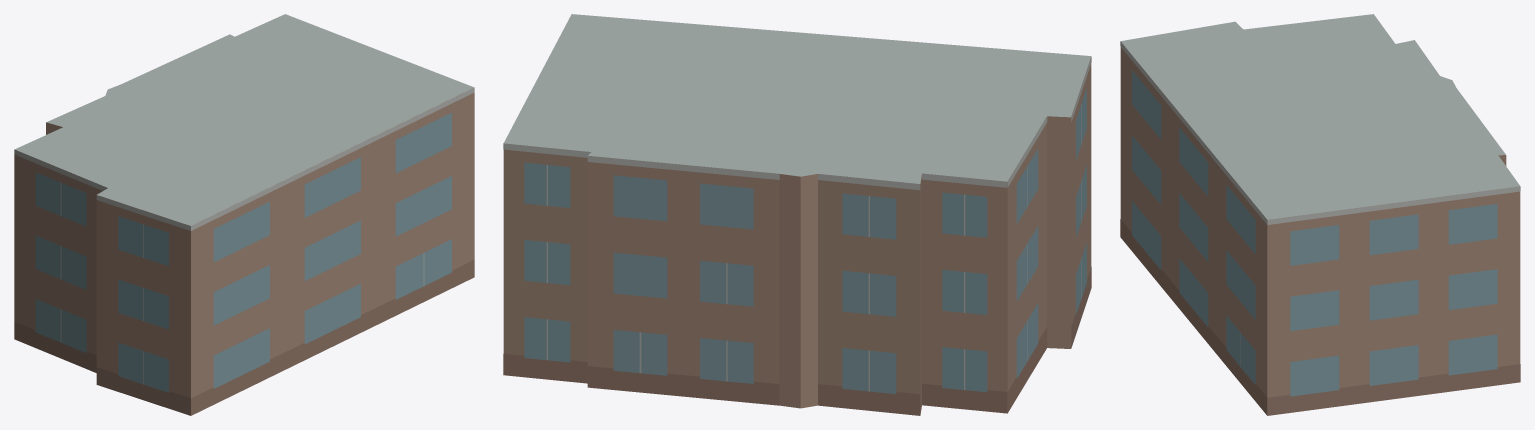
The model's file is survey-upis-33001784.glb.
3 renders of one model, left to right at view 1: azimuth 30°, elevation 25°; view 2: azimuth 150°, elevation 25°; view 3: azimuth 270°, elevation 25°, orthographic. The views are drawn at different scales.
Visible parts, largest first — view 1: survey-upis-33001784.tmp; view 2: survey-upis-33001784.tmp; view 3: survey-upis-33001784.tmp.
Boxes of the visible parts, x1=… form: survey-upis-33001784.tmp: x1=14, y1=14, x2=474, y2=415; survey-upis-33001784.tmp: x1=503, y1=14, x2=1091, y2=415; survey-upis-33001784.tmp: x1=1120, y1=14, x2=1520, y2=415.
Size of the model in its own units: 20.61 by 9.15 by 16.93.
